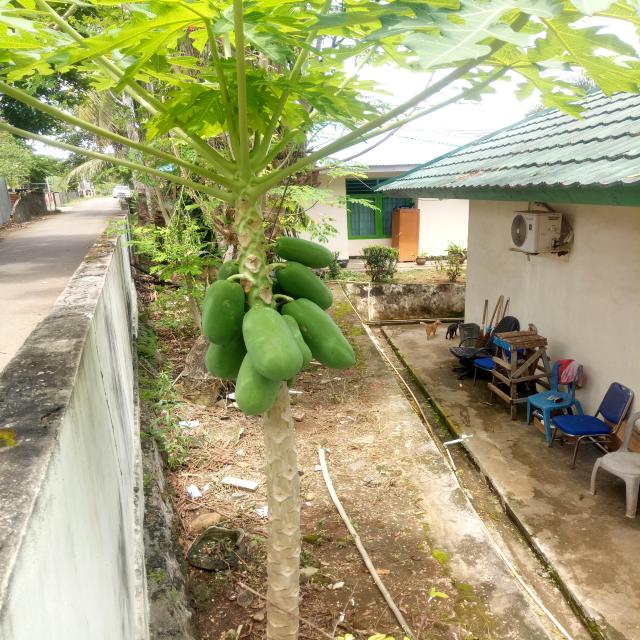Pepaya unrippen: (235, 304, 304, 376), (288, 297, 356, 364), (186, 275, 239, 346), (263, 228, 345, 271), (272, 265, 341, 306), (237, 367, 280, 417)
